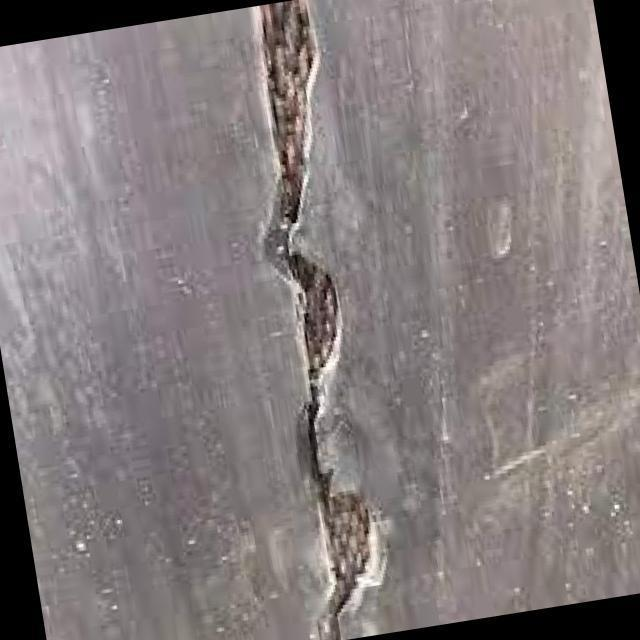Tear: (248, 0, 402, 640)
